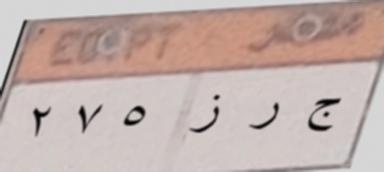2: (22, 98, 54, 144)
5: (112, 97, 157, 137)
7: (66, 96, 108, 140)
jeem: (303, 89, 344, 138)
raa: (244, 100, 290, 141)
zay: (189, 94, 229, 138)
